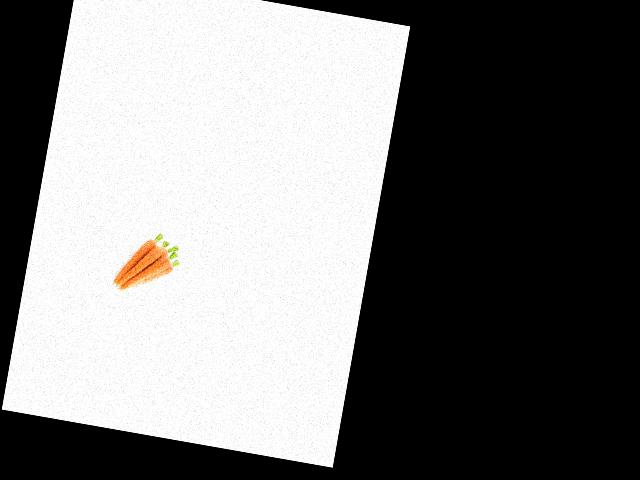carrot: (108, 229, 156, 288)
